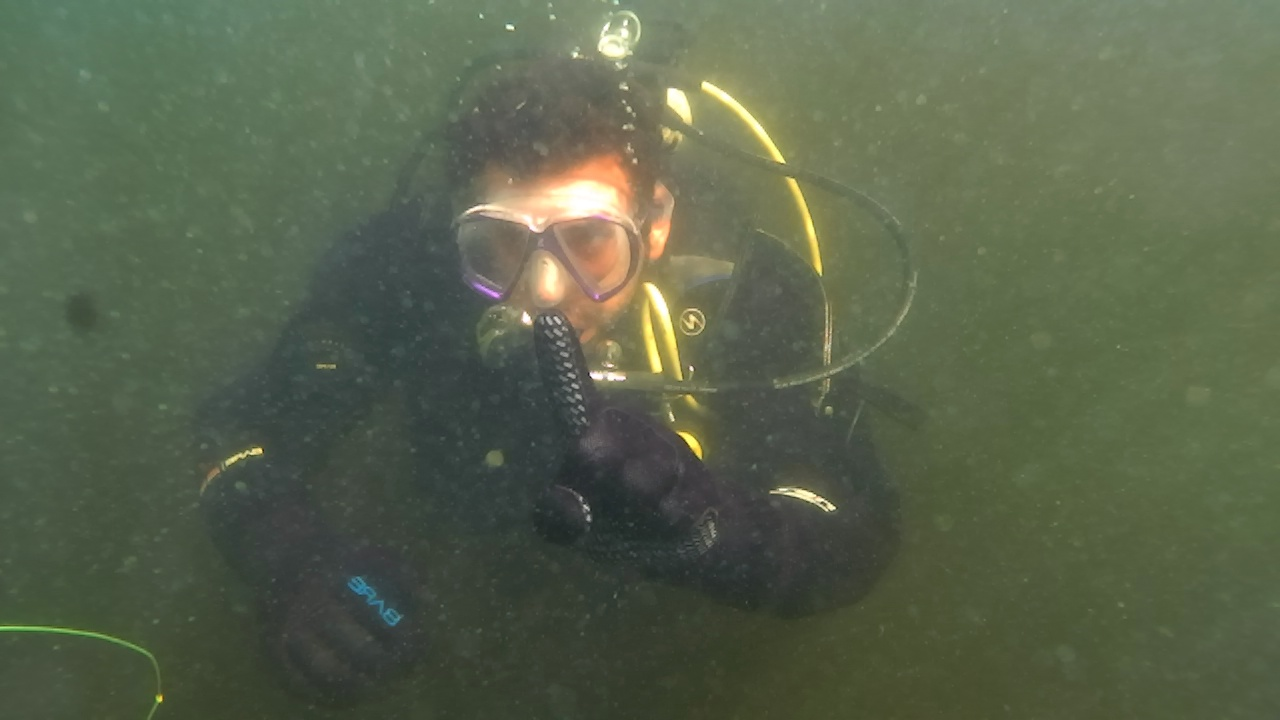Diver: (132, 12, 942, 700)
Hand: (222, 474, 420, 682), (490, 380, 698, 546)
Head: (382, 32, 718, 348)
